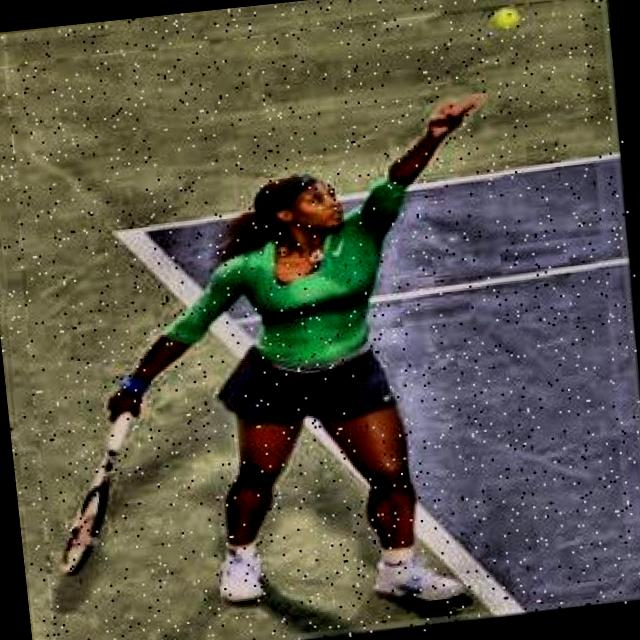Tennis Ball: (493, 8, 518, 29)
